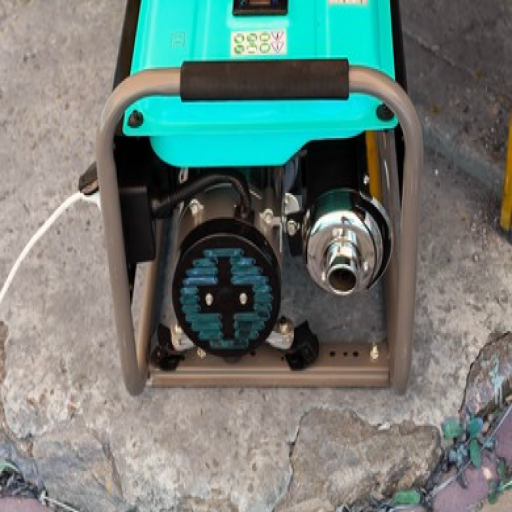portable_generator: (94, 1, 424, 396)
